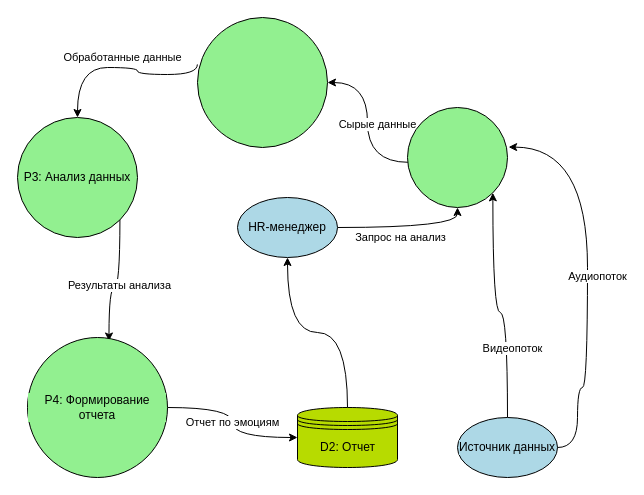
This 644x495 diagram has some shape labels left out. The shapes that lost their labels are listed below. From the top down, each one's centre as x and y in pixels, then its label:
point (262, 82): P2: Обработка данных
point (457, 157): P1: Сбор данных
